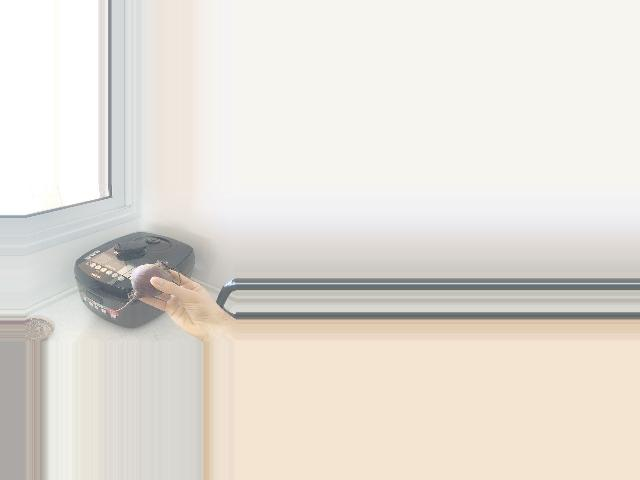beet: (115, 260, 179, 312)
